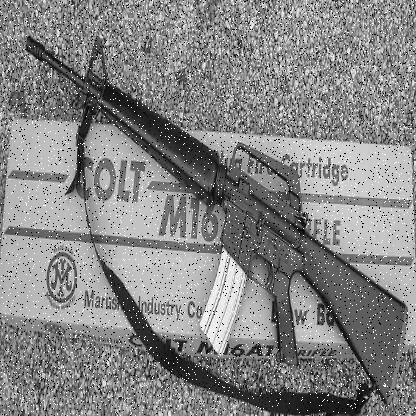rifle: (20, 22, 409, 398)
